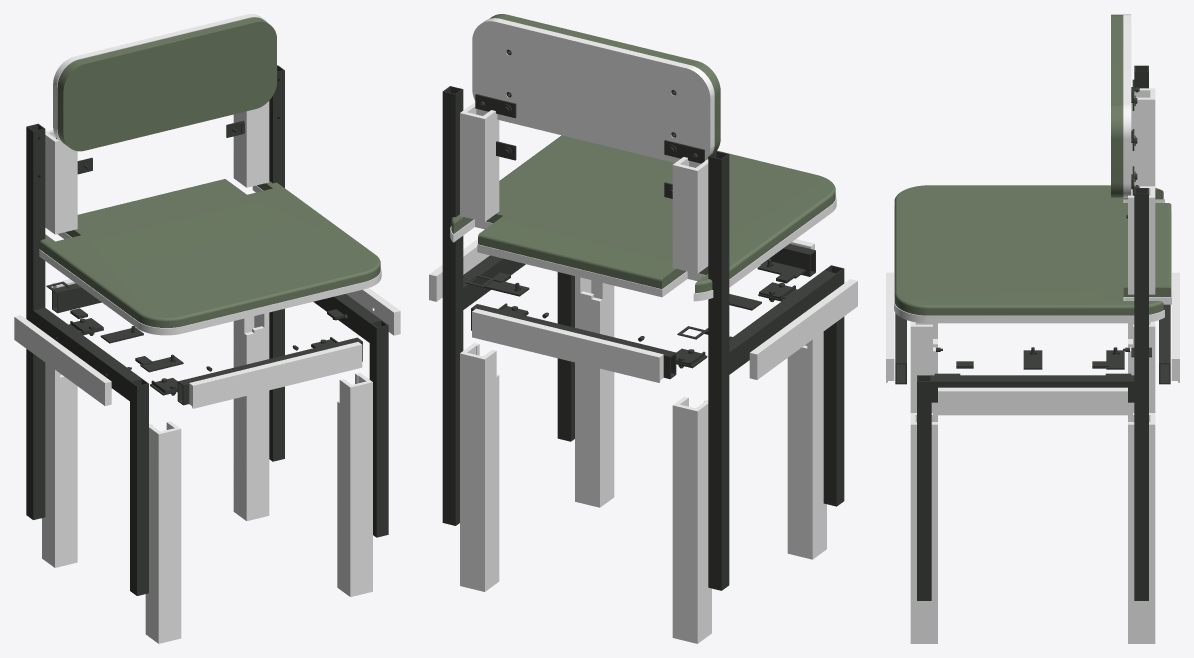
Rendered from exploded.glb.
The picture shows the model from 3 angles, left to right: view 1: azimuth 30°, elevation 25°; view 2: azimuth 150°, elevation 25°; view 3: azimuth 270°, elevation 25°; orthographic projection. The views are drawn at different scales.
Parts seen in each view (by area): view 1: seat-upholstery-envelope, back-upholstery-envelope, sleeve-1-0, sleeve-0-0, leg-0-1, sleeve-0-1, sleeve-1-1, apron-Y--1, leg-0-0, leg-1-0, leg-1-1, upper-sleeve-0 (+9 smaller); view 2: seat-upholstery-envelope, back-carrier, leg-0-1, sleeve-1-1, sleeve-0-1, leg-1-1, sleeve-0-0, sleeve-1-0, apron-Y-1, upper-sleeve-1, leg-0-0, upper-sleeve-0 (+9 smaller); view 3: seat-upholstery-envelope, leg-1-1, apron-X-1, sleeve-1-0, sleeve-1-1, leg-1-0, side-rail-1-0, seat-carrier, back-upholstery-envelope, upper-sleeve-0, sleeve-0-0, back-carrier (+6 smaller).
Part boxes in pixels (bbox=[...]): seat-upholstery-envelope: bbox=[39, 179, 380, 327]; back-upholstery-envelope: bbox=[57, 17, 276, 151]; sleeve-1-0: bbox=[337, 372, 372, 596]; sleeve-0-0: bbox=[145, 421, 181, 643]; leg-0-1: bbox=[26, 123, 45, 519]; sleeve-0-1: bbox=[42, 363, 77, 567]; sleeve-1-1: bbox=[233, 312, 269, 520]; apron-Y--1: bbox=[189, 342, 362, 408]; leg-0-0: bbox=[130, 378, 148, 595]; leg-1-0: bbox=[369, 320, 388, 537]; leg-1-1: bbox=[269, 65, 284, 461]; upper-sleeve-0: bbox=[45, 129, 77, 234]; seat-upholstery-envelope: bbox=[451, 135, 835, 293]; back-carrier: bbox=[472, 18, 714, 162]; leg-0-1: bbox=[708, 151, 729, 590]; sleeve-1-1: bbox=[460, 343, 499, 591]; sleeve-0-1: bbox=[672, 396, 711, 643]; leg-1-1: bbox=[442, 86, 463, 525]; sleeve-0-0: bbox=[787, 332, 826, 559]; sleeve-1-0: bbox=[575, 276, 614, 507]; apron-Y-1: bbox=[472, 308, 663, 382]; upper-sleeve-1: bbox=[460, 102, 499, 221]; leg-0-0: bbox=[823, 265, 844, 506]; upper-sleeve-0: bbox=[672, 157, 708, 273]; seat-upholstery-envelope: bbox=[894, 185, 1171, 315]; leg-1-1: bbox=[1134, 188, 1148, 600]; apron-X-1: bbox=[938, 387, 1127, 415]; sleeve-1-0: bbox=[910, 413, 937, 643]; sleeve-1-1: bbox=[1128, 413, 1155, 643]; leg-1-0: bbox=[917, 375, 931, 600]; side-rail-1-0: bbox=[931, 375, 1134, 402]; seat-carrier: bbox=[894, 199, 1171, 323]; back-upholstery-envelope: bbox=[1111, 14, 1123, 197]; upper-sleeve-0: bbox=[1131, 88, 1155, 186]; sleeve-0-0: bbox=[910, 321, 937, 421]; back-carrier: bbox=[1123, 14, 1131, 198].
Size of the model in its own units: 0.617 by 1.01 by 0.507.
